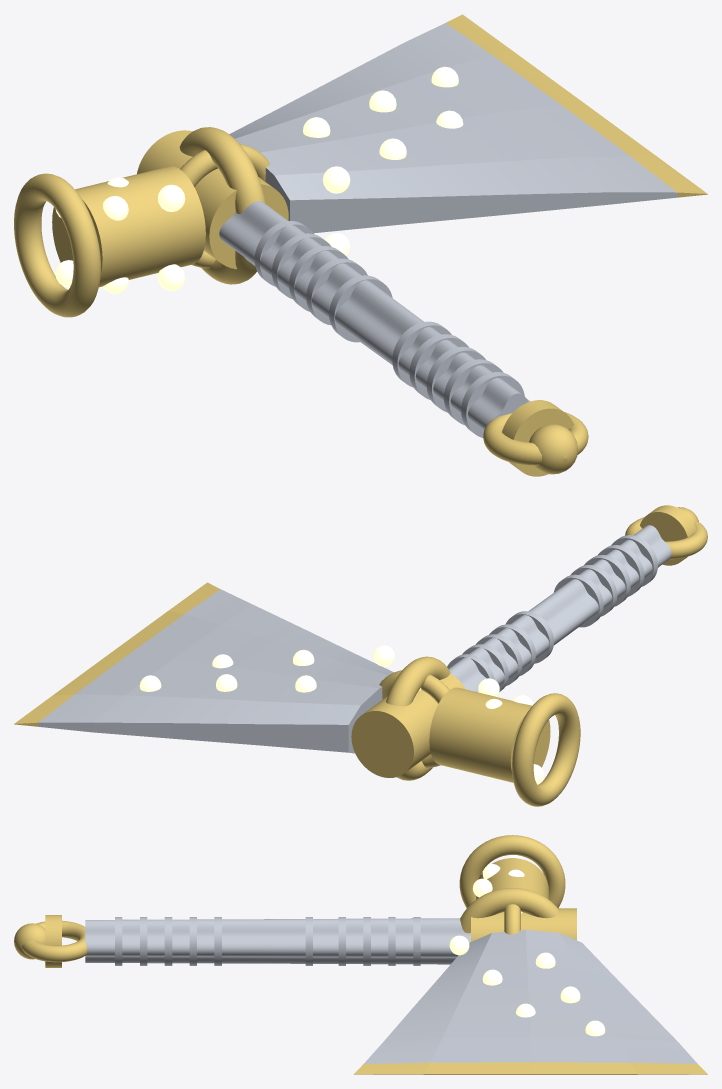
The model's file is art_world_shaper.fbx.
3 views of the same model, one above another, from view 1: azimuth 30°, elevation 25°; view 2: azimuth 150°, elevation 25°; view 3: azimuth 270°, elevation 25° (orthographic). The views are drawn at different scales.
Parts seen in each view (by area): view 1: Blade, Handle, BackSpike, HeadCollar, RuneInlay, Pommel, BladeEdge; view 2: Blade, Handle, BackSpike, HeadCollar, BladeEdge, RuneInlay, Pommel; view 3: Blade, Handle, BackSpike, BladeEdge, HeadCollar, Pommel, RuneInlay.
Boxes of the visible parts, x1=… form: Blade: x1=229, y1=23, x2=677, y2=233; Handle: x1=219, y1=200, x2=530, y2=437; BackSpike: x1=14, y1=166, x2=205, y2=317; HeadCollar: x1=137, y1=127, x2=288, y2=284; RuneInlay: x1=55, y1=66, x2=463, y2=293; Pommel: x1=483, y1=400, x2=588, y2=476; BladeEdge: x1=446, y1=14, x2=707, y2=197; Blade: x1=38, y1=589, x2=393, y2=753; Handle: x1=447, y1=525, x2=671, y2=692; BackSpike: x1=429, y1=687, x2=580, y2=806; HeadCollar: x1=351, y1=656, x2=465, y2=780; BladeEdge: x1=14, y1=582, x2=220, y2=726; RuneInlay: x1=139, y1=645, x2=544, y2=784; Pommel: x1=625, y1=505, x2=707, y2=565; Blade: x1=364, y1=930, x2=697, y2=1063; Handle: x1=85, y1=917, x2=470, y2=965; BackSpike: x1=459, y1=835, x2=565, y2=908; BladeEdge: x1=353, y1=1062, x2=707, y2=1074; HeadCollar: x1=460, y1=888, x2=576, y2=941; Pommel: x1=14, y1=915, x2=87, y2=967; RuneInlay: x1=449, y1=855, x2=605, y2=1036.
Bounding box in the file's own units: 278 × 70 × 419.
